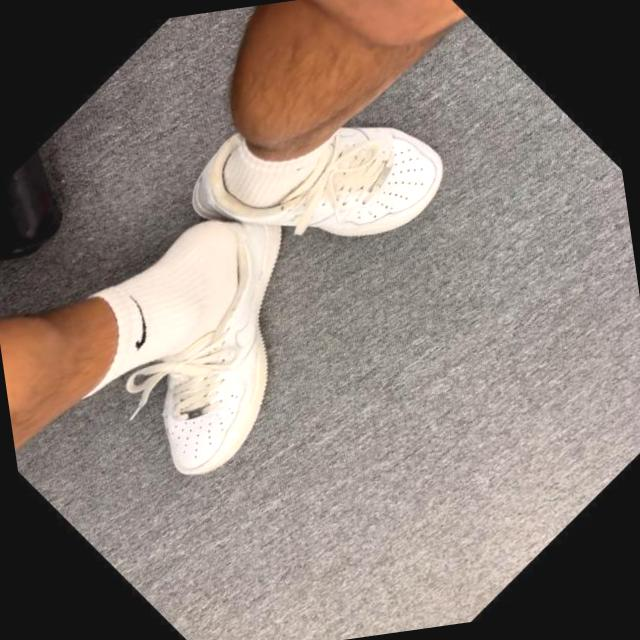nike_original_airforce: (36, 156, 394, 507), (153, 16, 483, 342)
